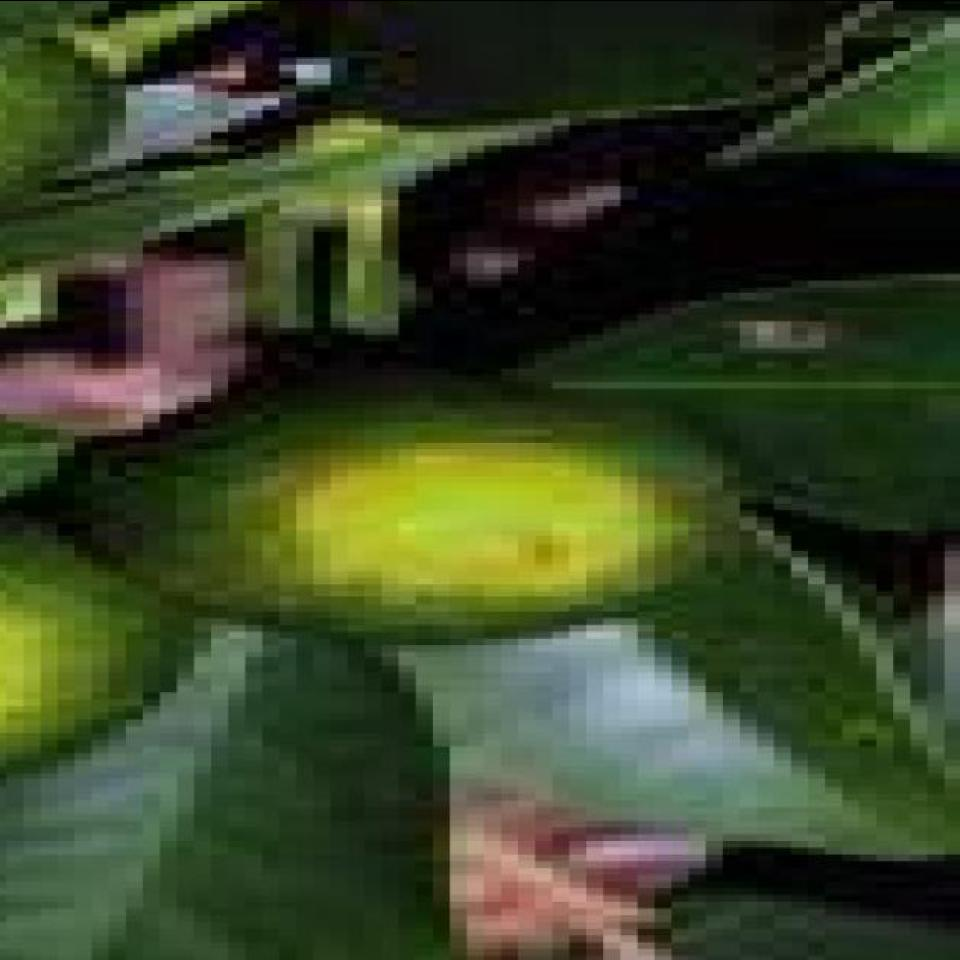Sunscald: (246, 455, 706, 617)
